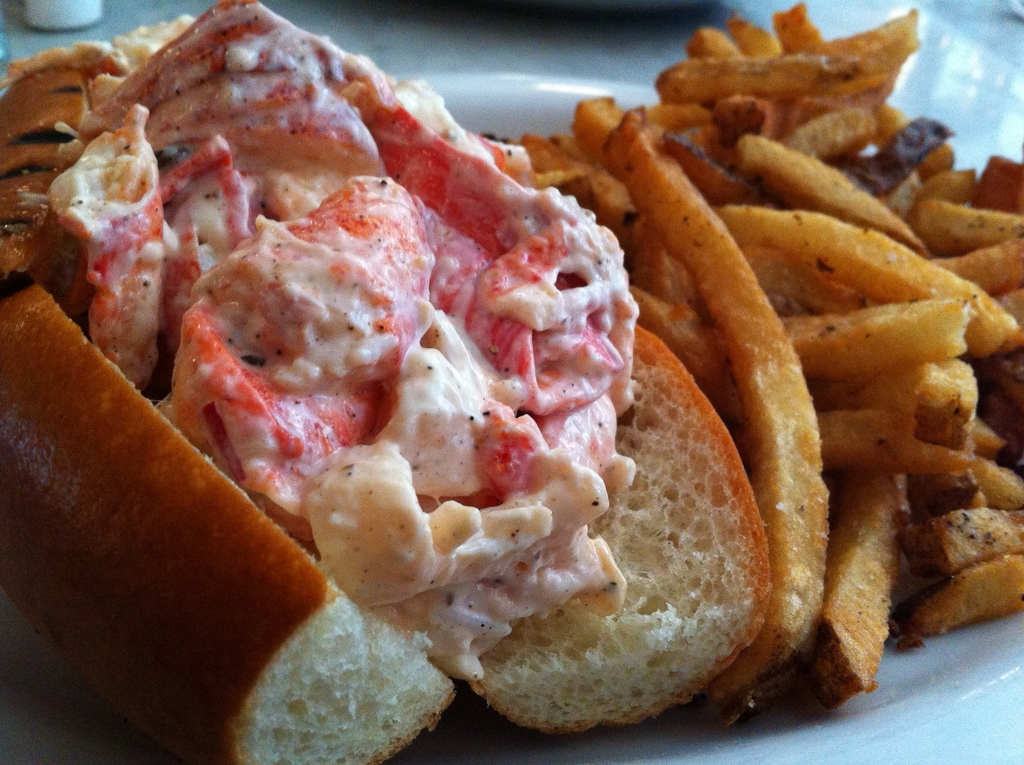French fries: (554, 30, 1018, 658)
